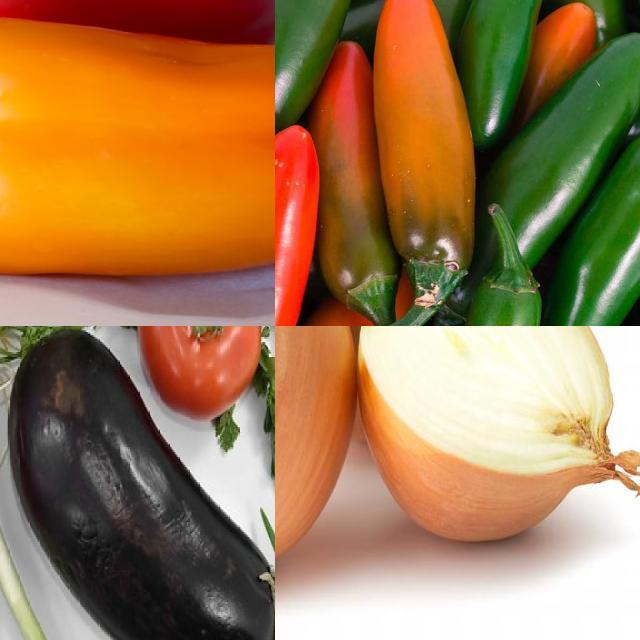bell_pepper: (1, 21, 276, 285)
eggplant: (12, 328, 276, 640)
onion: (355, 327, 640, 559), (276, 327, 506, 442), (276, 327, 359, 606)
tomato: (147, 327, 261, 418)
